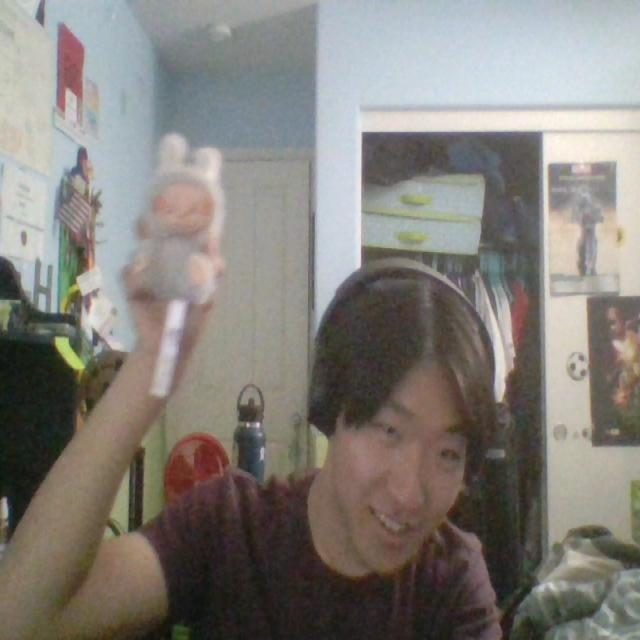labubu: (128, 135, 224, 303)
